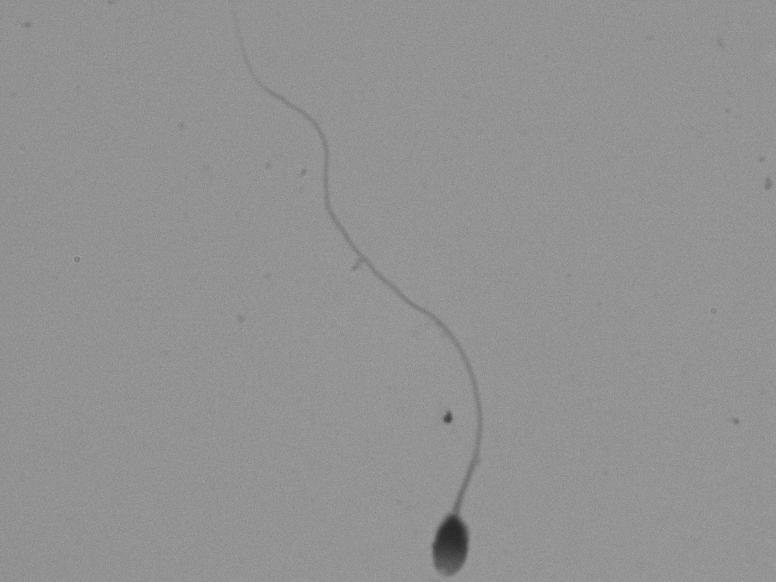Normal: (212, 25, 537, 578)
